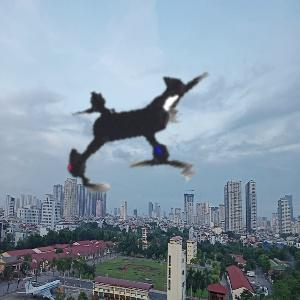drone: (11, 9, 265, 263)
